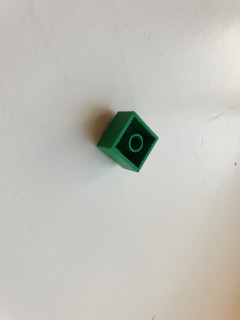2x2 green: (96, 110, 160, 173)
